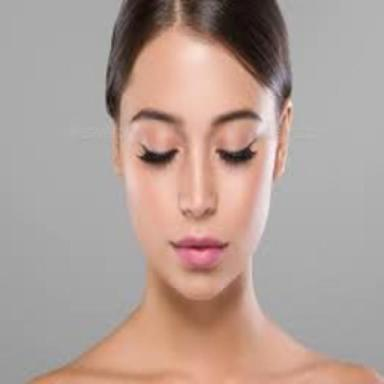normal skin: (31, 28, 377, 384)
